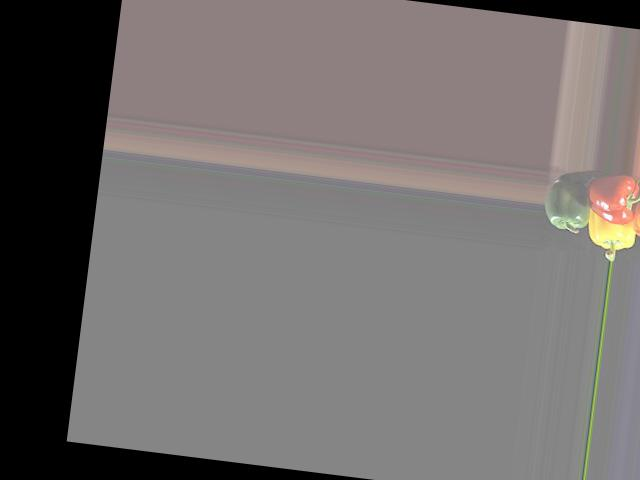bell_pepper: (629, 174, 640, 249)
